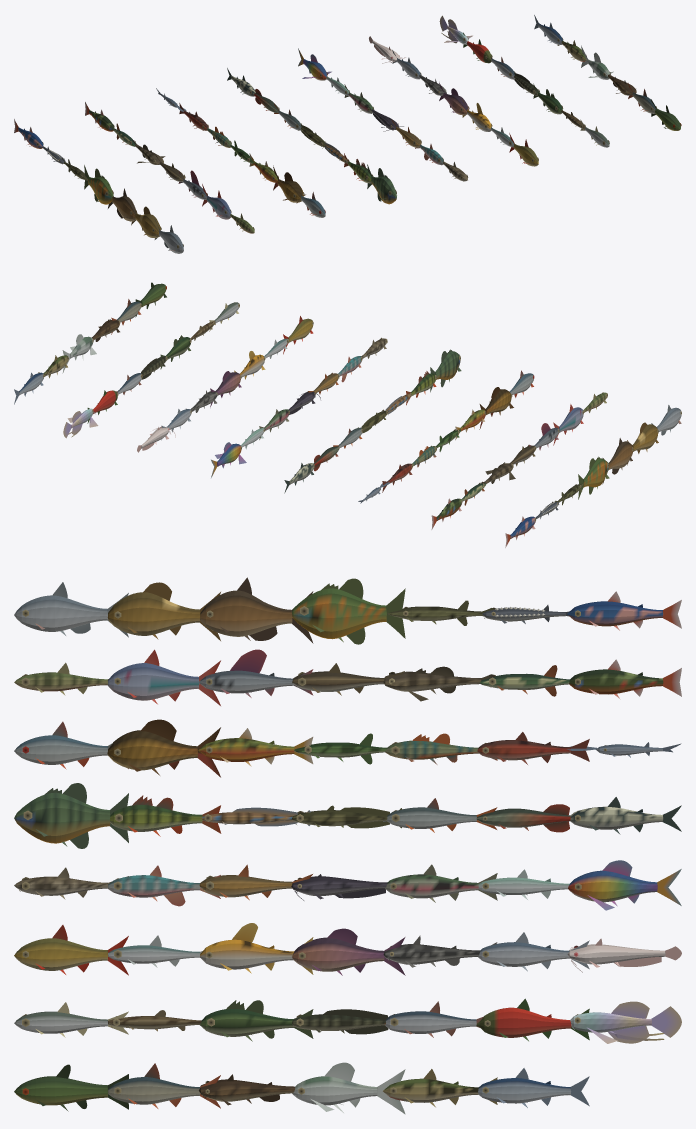
The model's file is fish.glb.
3 views of the same model, one above another, from view 1: azimuth 30°, elevation 25°; view 2: azimuth 150°, elevation 25°; view 3: azimuth 270°, elevation 25° (orthographic). The views are drawn at different scales.
Visible parts, largest first — view 1: f25, f04, f11, f09, f17, f53, f55, f10, f30, f32, f01, f06 (+2 smaller); view 2: f25, f04, f11, f17, f09, f55, f53, f32, f10, f30, f01, f06; view 3: f25, f04, f17, f11, f09, f55, f10, f53, f30, f01, f32, f06 (+42 smaller).
Part boxes in pixels (box(x1,y1,x2,y2)): f25: box(84, 165, 113, 204); f04: box(367, 164, 396, 204); f11: box(273, 165, 305, 202); f09: box(131, 201, 161, 238); f17: box(107, 183, 137, 221); f53: box(298, 48, 331, 80); f55: box(439, 15, 472, 44); f10: box(202, 184, 231, 219); f30: box(439, 82, 469, 115); f32: box(581, 45, 613, 79); f01: box(154, 219, 183, 253); f06: box(509, 133, 538, 166); f25: box(578, 456, 609, 499); f04: box(430, 349, 461, 392); f11: box(479, 387, 513, 429); f17: box(602, 438, 633, 484); f09: box(627, 422, 658, 465); f55: box(63, 408, 98, 438); f53: box(211, 442, 246, 477); f32: box(62, 334, 96, 373); f10: box(553, 404, 583, 445); f30: box(210, 371, 241, 407); f01: box(651, 405, 681, 435); f06: box(283, 316, 313, 354); f25: box(292, 578, 405, 644); f04: box(14, 783, 128, 848); f17: box(200, 577, 313, 643); f11: box(107, 719, 220, 777); f09: box(107, 582, 220, 640); f55: box(570, 1001, 681, 1043); f10: box(107, 649, 220, 705); f53: box(568, 860, 681, 910); f30: box(292, 928, 405, 975); f01: box(14, 582, 128, 637); f32: box(292, 1062, 405, 1114); f06: box(14, 925, 128, 975).
Size of the model in its own units: 10.24 by 0.6454 by 5.8.
